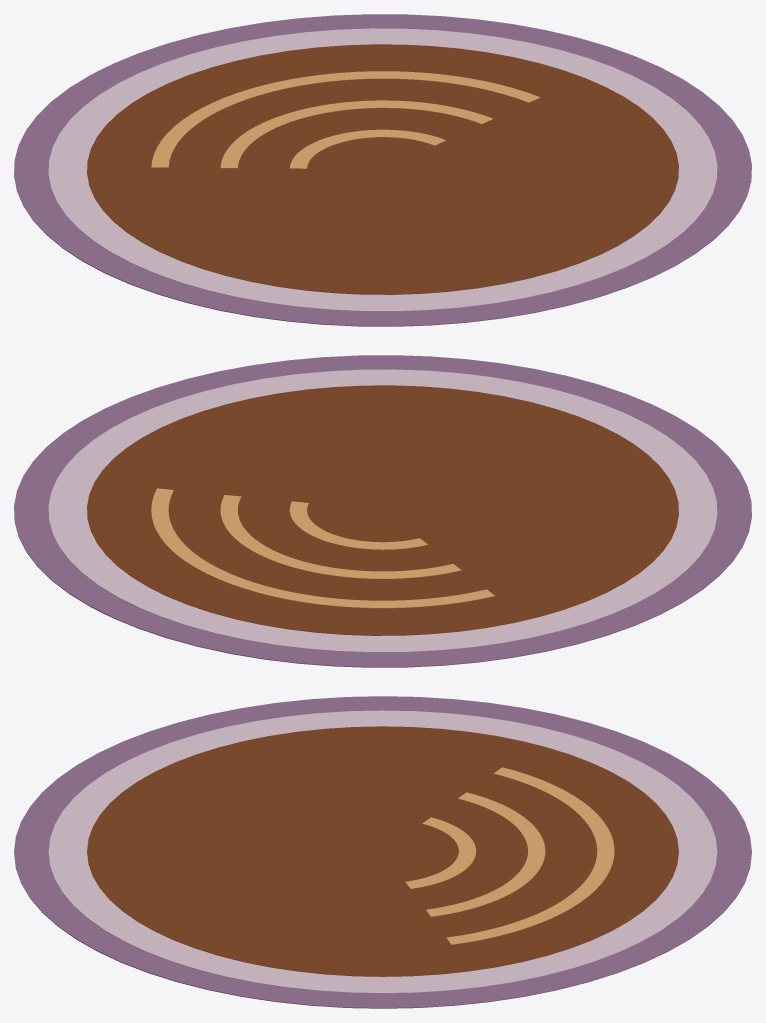
The model's file is vinegar.glb.
3 renders of one model, top to bottom at view 1: azimuth 30°, elevation 25°; view 2: azimuth 150°, elevation 25°; view 3: azimuth 270°, elevation 25°, orthographic.
Visible parts, largest first — view 1: AmberLiquid, Saucer, Lip, SourRipple2, SourRipple1, SourRipple0; view 2: AmberLiquid, Saucer, Lip, SourRipple2, SourRipple1, SourRipple0; view 3: AmberLiquid, Saucer, Lip, SourRipple2, SourRipple1, SourRipple0.
Part boxes in pixels (x1,y1,x2,y2): AmberLiquid: (87, 44, 678, 294); Saucer: (14, 14, 751, 326); Lip: (48, 28, 717, 311); SourRipple2: (151, 71, 540, 167); SourRipple1: (220, 100, 492, 168); SourRipple0: (289, 129, 446, 168); AmberLiquid: (87, 385, 678, 635); Saucer: (14, 355, 751, 667); Lip: (48, 369, 717, 652); SourRipple2: (151, 488, 494, 608); SourRipple1: (220, 495, 461, 578); SourRipple0: (289, 501, 427, 549); AmberLiquid: (87, 726, 678, 976); Saucer: (14, 696, 751, 1008); Lip: (48, 710, 717, 993); SourRipple2: (446, 767, 614, 944); SourRipple1: (426, 792, 545, 916); SourRipple0: (405, 817, 476, 888).
Bounding box in the file's own units: 1.92 × 0.005 × 1.92.
